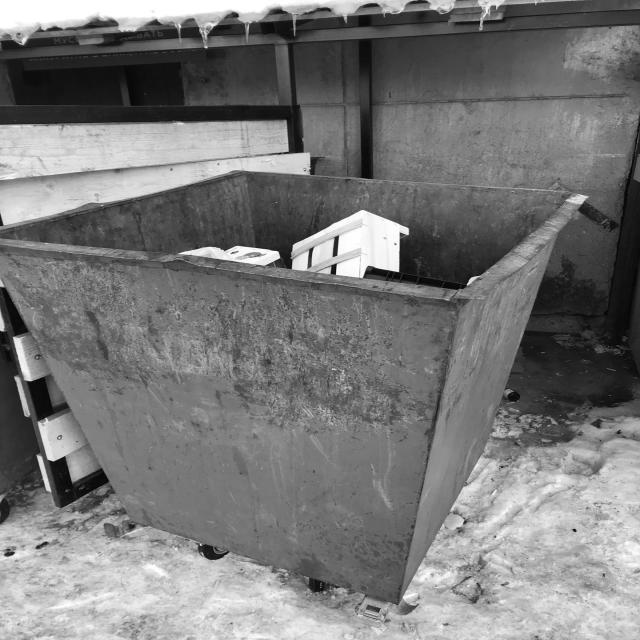Trashcan: (0, 147, 608, 627)
